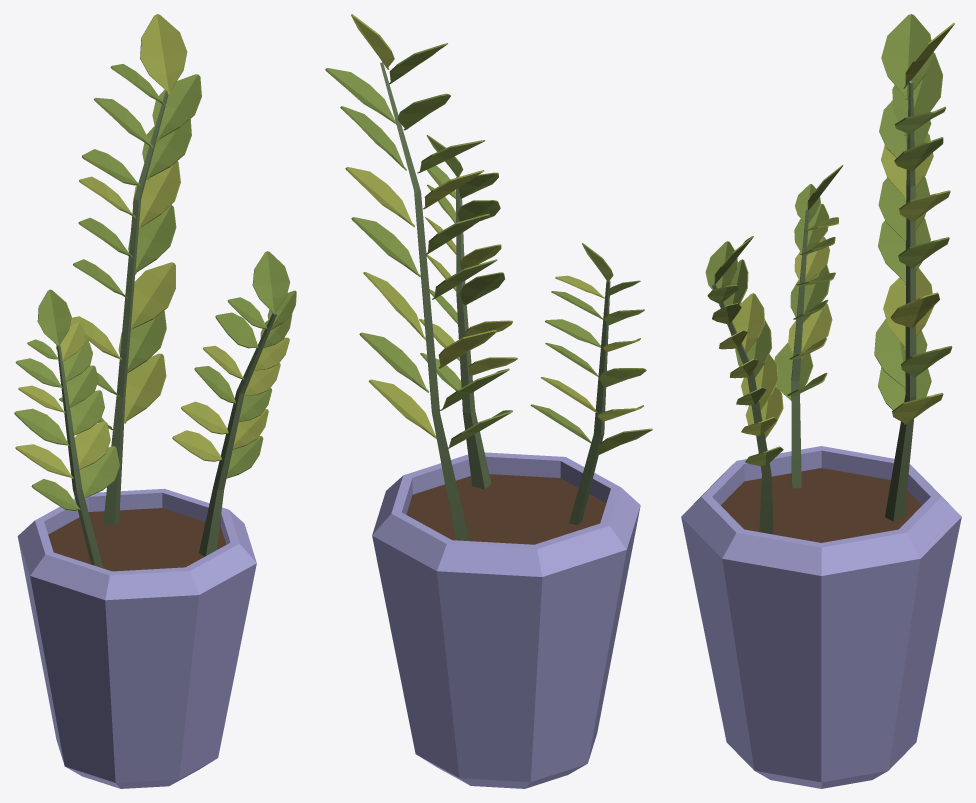
The model's file is Plant_05.fbx.
3 renders of one model, left to right at view 1: azimuth 30°, elevation 25°; view 2: azimuth 150°, elevation 25°; view 3: azimuth 270°, elevation 25°, orthographic. The views are drawn at different scales.
Parts seen in each view (by area): view 1: Plant_05; view 2: Plant_05; view 3: Plant_05.
Boxes of the visible parts, box(x1,y1,x2,y2) form: Plant_05: box(14, 14, 296, 788); Plant_05: box(325, 14, 652, 788); Plant_05: box(681, 14, 961, 788).
Size of the model in its own units: 27.83 by 76.32 by 24.93.
